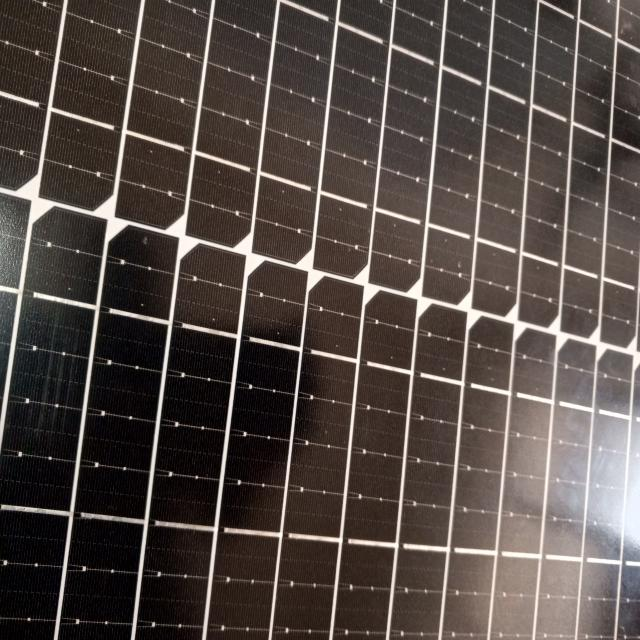Clean: (6, 4, 582, 639)
